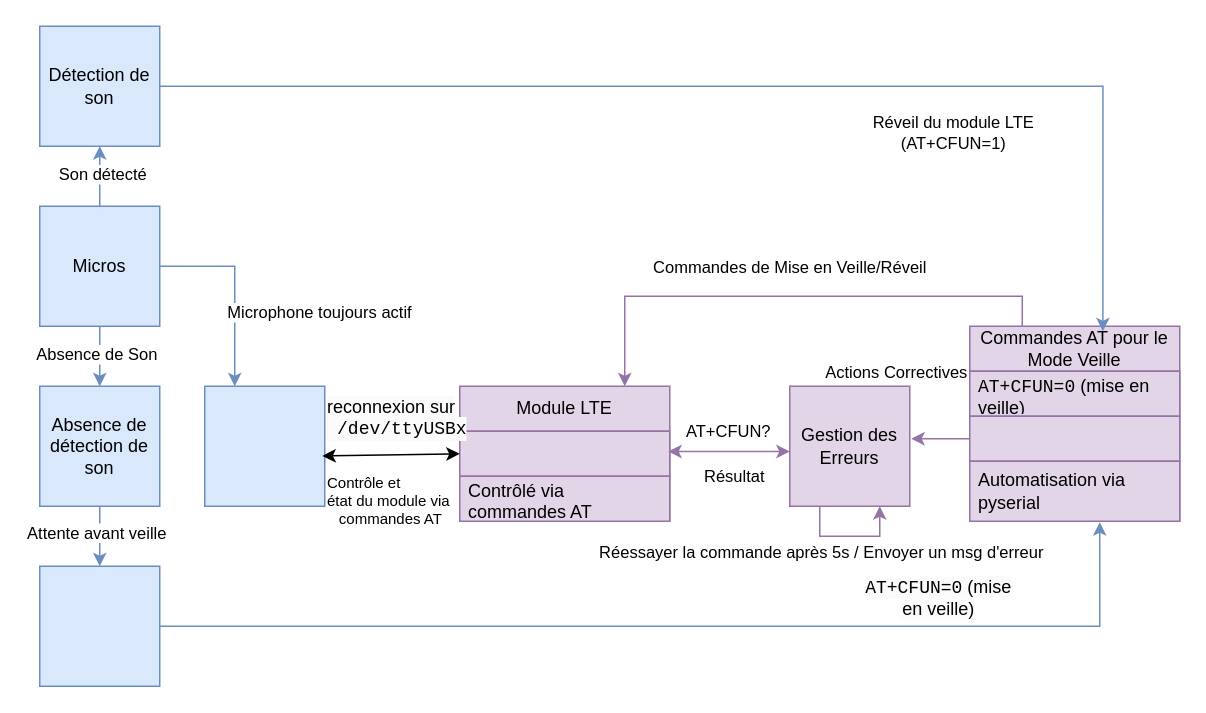
Some shapes in this 1206 by 713 pixel diagram are drawn without their labels. Here are the shapes that lost their labels. From the top down, the centre of each, then its label:
[264,445]: Raspberry
[564,453]: Port série virtuel (/dev/ttyUSBx)
[1074,438]: AT+CFUN=1 (réactivation)
[99,625]: Délai avant mise en veille
